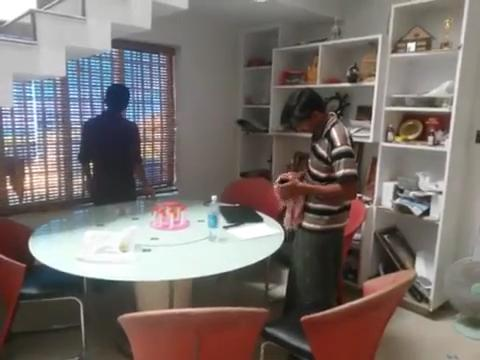chair: (258, 269, 419, 360), (1, 218, 89, 359), (265, 196, 368, 297), (116, 306, 270, 360), (218, 176, 287, 220)
closet_cabinet: (237, 1, 480, 319)
cup_glass_bottle: (150, 198, 190, 230)
floor: (1, 256, 479, 360), (1, 1, 191, 109)
paper_notebook: (218, 205, 282, 240)
person: (273, 88, 359, 322), (78, 84, 156, 206)
table_desk: (27, 196, 286, 358)
towel_s: (272, 171, 307, 229)
window: (1, 46, 174, 207)
